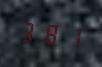eight: (40, 19, 60, 47)
one: (61, 20, 81, 49)
three: (18, 17, 38, 45)
